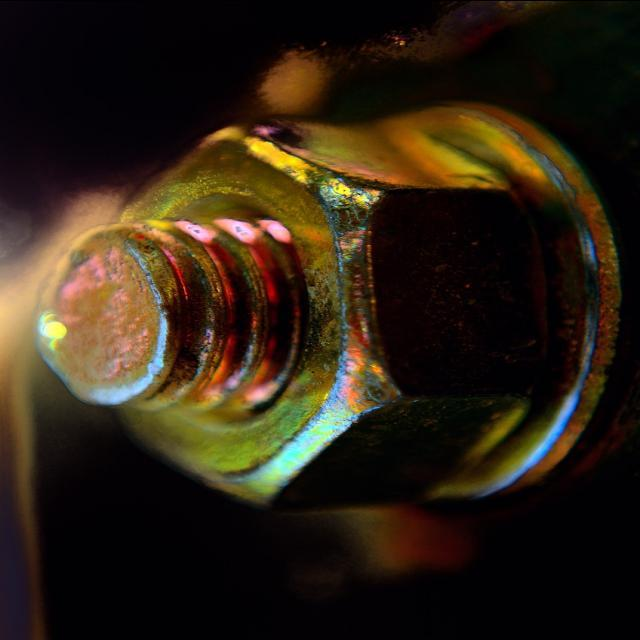nut: (47, 119, 525, 511), (366, 183, 530, 399), (231, 121, 519, 191)
